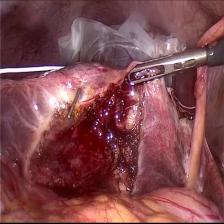Grasper: (126, 56, 210, 89)
Specimen Bag: (55, 11, 188, 63)
